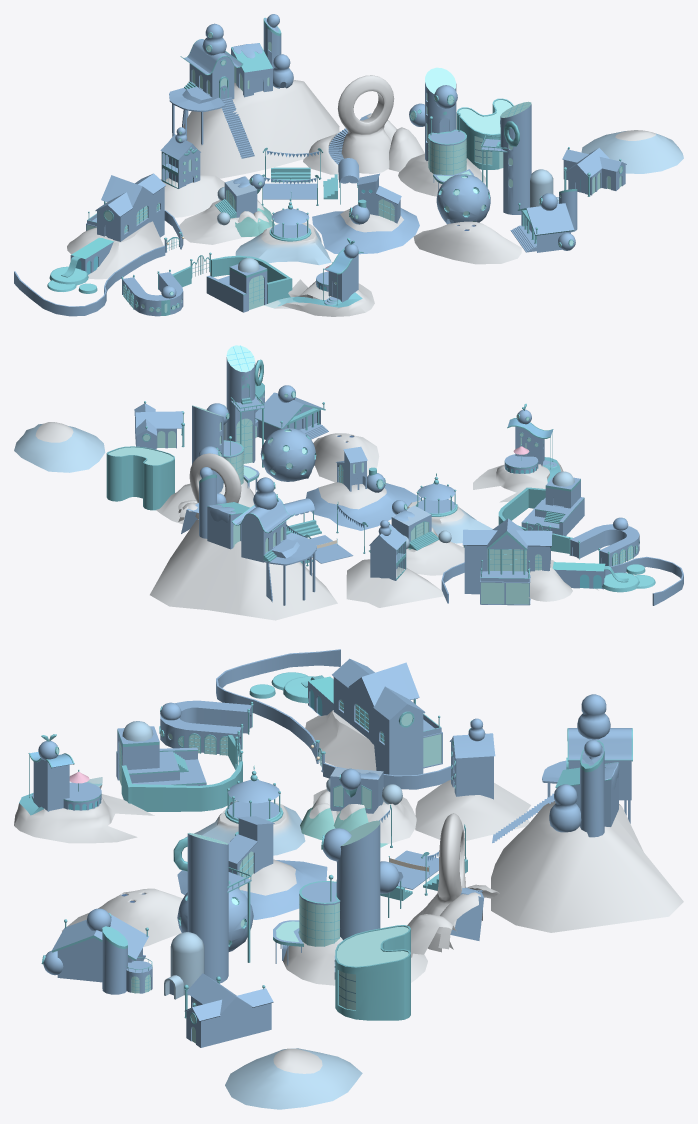
The model's file is Neighborhood_BeverlyChills_Locked_03.fbx.
The picture shows the model from 3 angles, top to bottom: view 1: azimuth 30°, elevation 25°; view 2: azimuth 150°, elevation 25°; view 3: azimuth 270°, elevation 25°; orthographic projection. The views are drawn at different scales.
Parts seen in each view (by area): view 1: Neighborhood_BeverlyChillsLocked; view 2: Neighborhood_BeverlyChillsLocked; view 3: Neighborhood_BeverlyChillsLocked.
Boxes of the visible parts, bbox=[...] form: Neighborhood_BeverlyChillsLocked: bbox=[14, 14, 683, 316]; Neighborhood_BeverlyChillsLocked: bbox=[14, 345, 683, 620]; Neighborhood_BeverlyChillsLocked: bbox=[14, 649, 683, 1109].
Size of the model in its own units: 9844 by 1865 by 6360.
